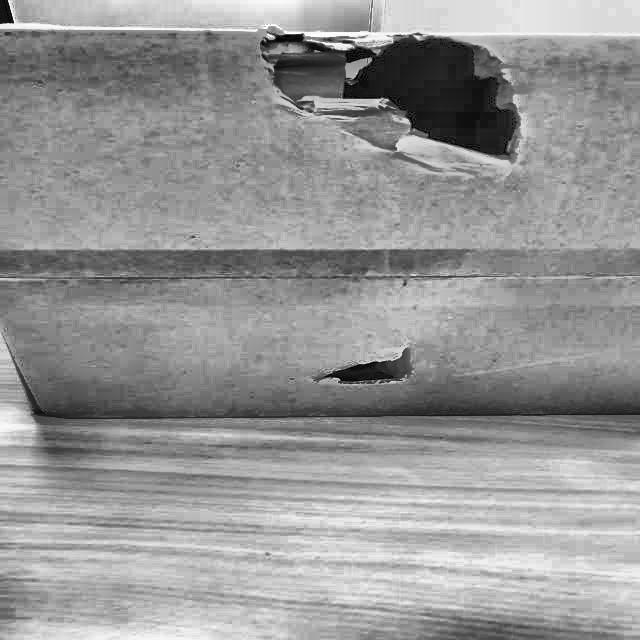box: (0, 11, 639, 430)
hole: (258, 27, 538, 169), (295, 341, 428, 395)
